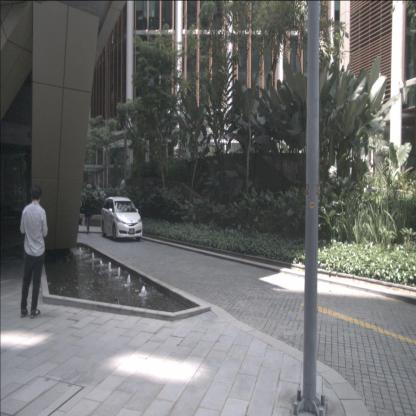human-pedestrian-adult: (20, 183, 48, 319), (81, 193, 92, 234)
vehicle-car: (101, 197, 143, 242)
